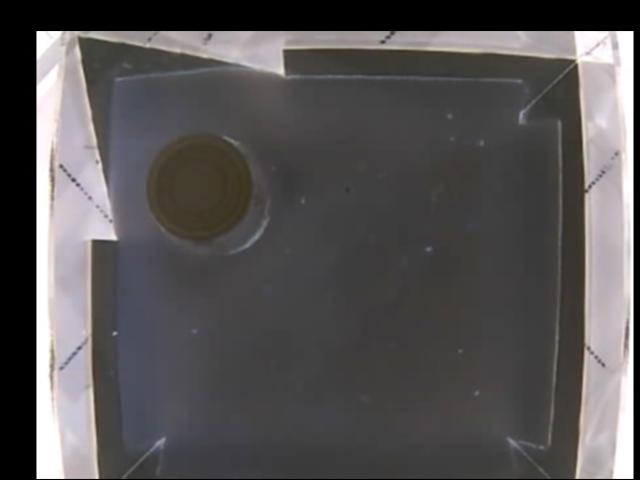Bottle: (144, 130, 273, 256)
